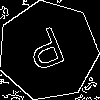P: (23, 26, 72, 81)
